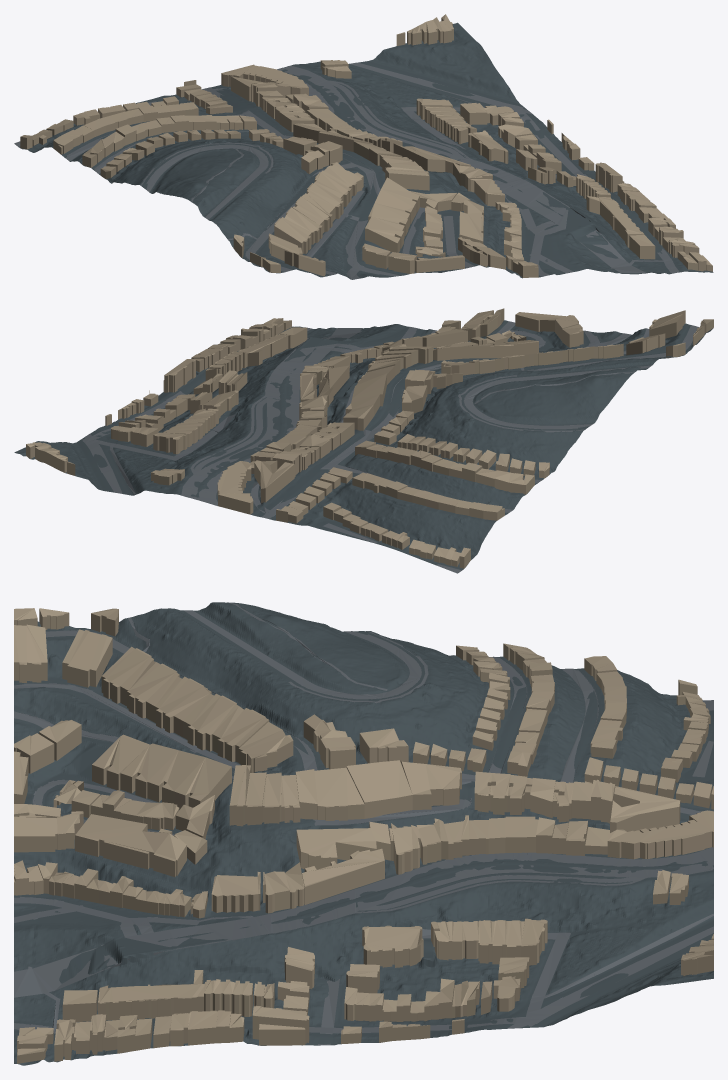
File: epsg26910-1429-10880.lod0.glb
3 renders of one model, top to bottom at view 1: azimuth 30°, elevation 25°; view 2: azimuth 150°, elevation 25°; view 3: azimuth 270°, elevation 25°, orthographic. The views are drawn at different scales.
Parts seen in each view (by area): view 1: epsg26910-1429-10880-lod0; view 2: epsg26910-1429-10880-lod0; view 3: epsg26910-1429-10880-lod0.
Boxes of the visible parts, x1,y1,x2,y2 form: epsg26910-1429-10880-lod0: (14,14,713,279); epsg26910-1429-10880-lod0: (14,308,713,573); epsg26910-1429-10880-lod0: (14,602,713,1065).
Size of the model in its own units: 384 by 102 by 384.
